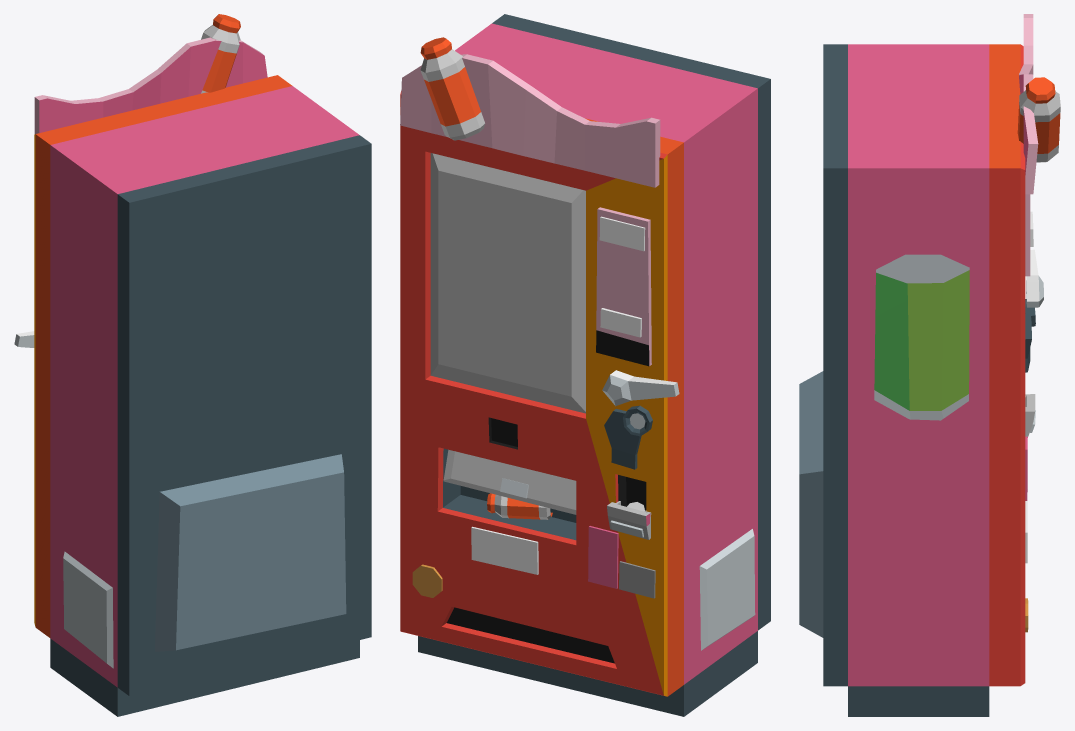
Rendered from mode_2.fbx.
3 renders of one model, left to right at view 1: azimuth 30°, elevation 25°; view 2: azimuth 150°, elevation 25°; view 3: azimuth 270°, elevation 25°, orthographic. The views are drawn at different scales.
Visible parts, largest first — view 1: group_1848869498; view 2: group_1848869498; view 3: group_1848869498.
Part boxes in pixels (box(x1,y1,x2,y2)): group_1848869498: box(14, 14, 371, 716); group_1848869498: box(400, 14, 770, 716); group_1848869498: box(799, 14, 1060, 716).
Bounding box in the file's own units: 129 × 281 × 108.
